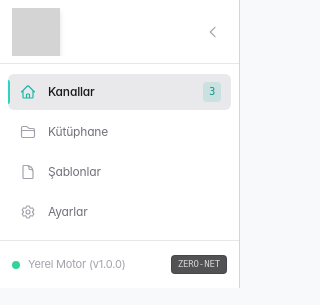
Test: Sidebar Component › toggles collapse state when toggle button is clicked and hides footer text when collapsed
// Click to collapse
Click the button named "sidebarı daralt" at (213, 32), box [199, 18, 227, 46]
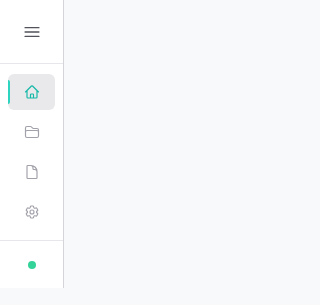
Now the text "Hustler" is gone
// Click to expand again
Click the button named "sidebarı genişlet" at (32, 32), box [12, 12, 51, 52]
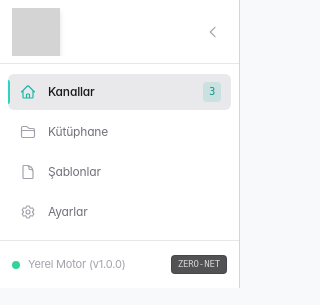
Now the element that starts with "Hustler" is expanded
